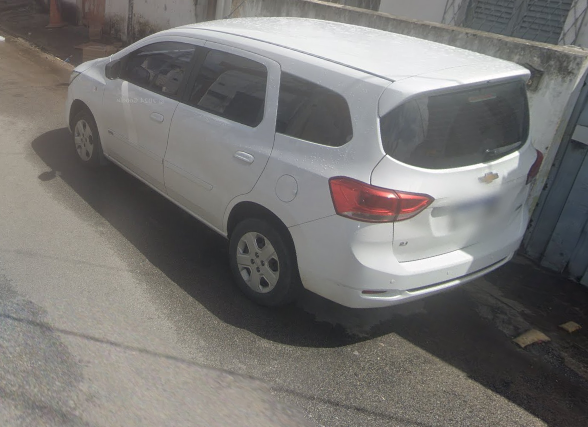car: (64, 12, 544, 317)
